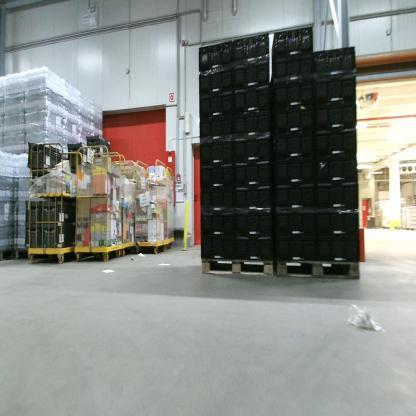pallets: (200, 255, 360, 284)
